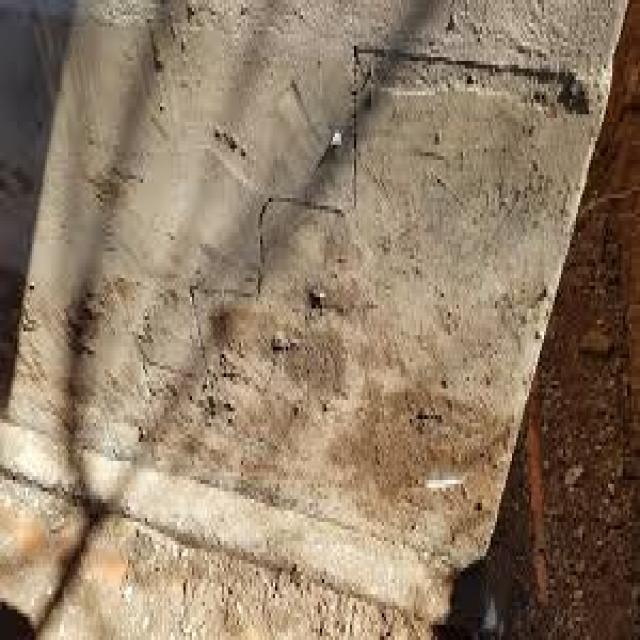Crack: (139, 38, 574, 434)
